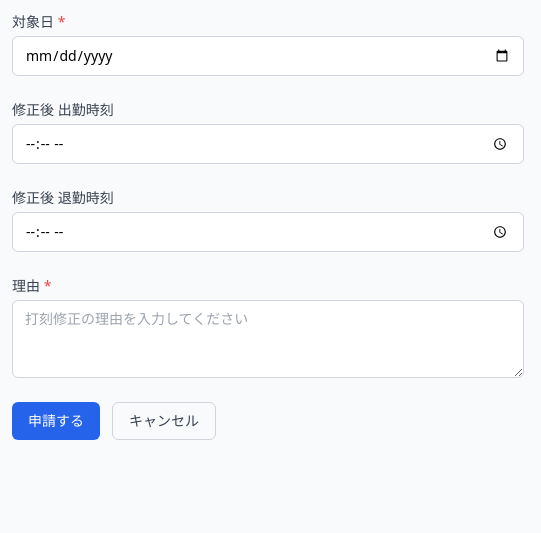
Test: ClockFixForm › 理由が未入力の場合エラーメッセージを表示する
This screenshot has width=541, height=533.
In the date field labelled "対象日 *": [268, 56] box [12,36,524,76], type "2026-07-10"
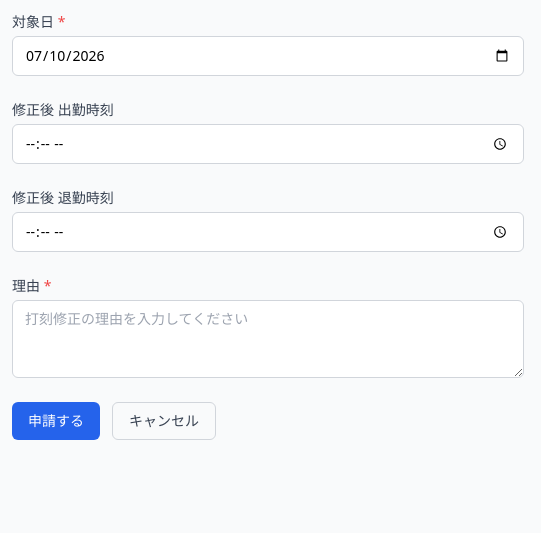
In the time field labelled "修正後 出勤時刻": [268, 144] box [12,124,524,164], type "09:00"
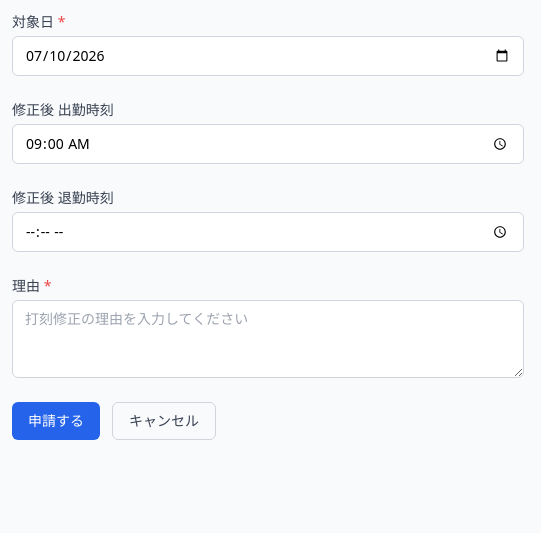
Click the button "申請する": [56, 421] box [12,402,100,440]
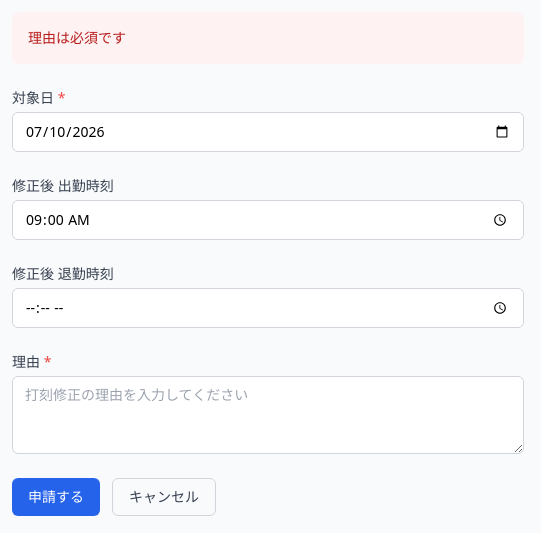
Expected: the message reads "理由は必須です", [28,28,126,47]
